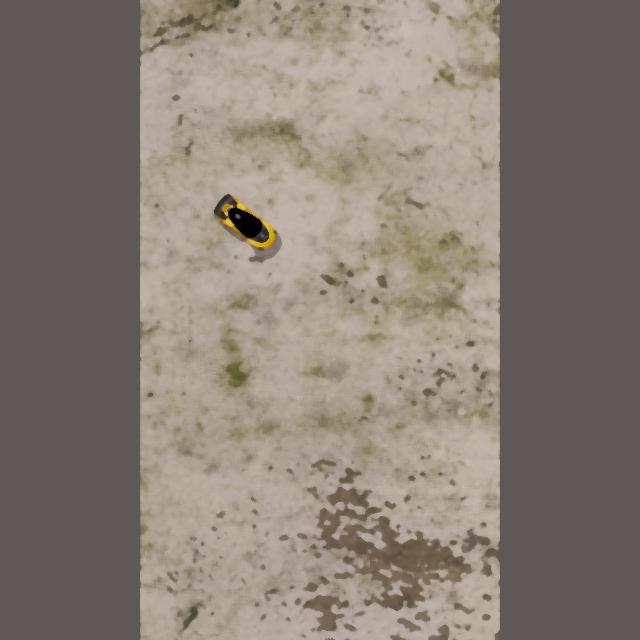car: (208, 189, 281, 257)
